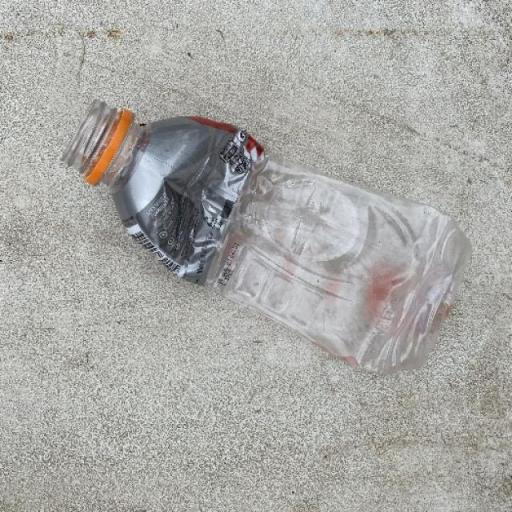plastic: (61, 98, 472, 376)
